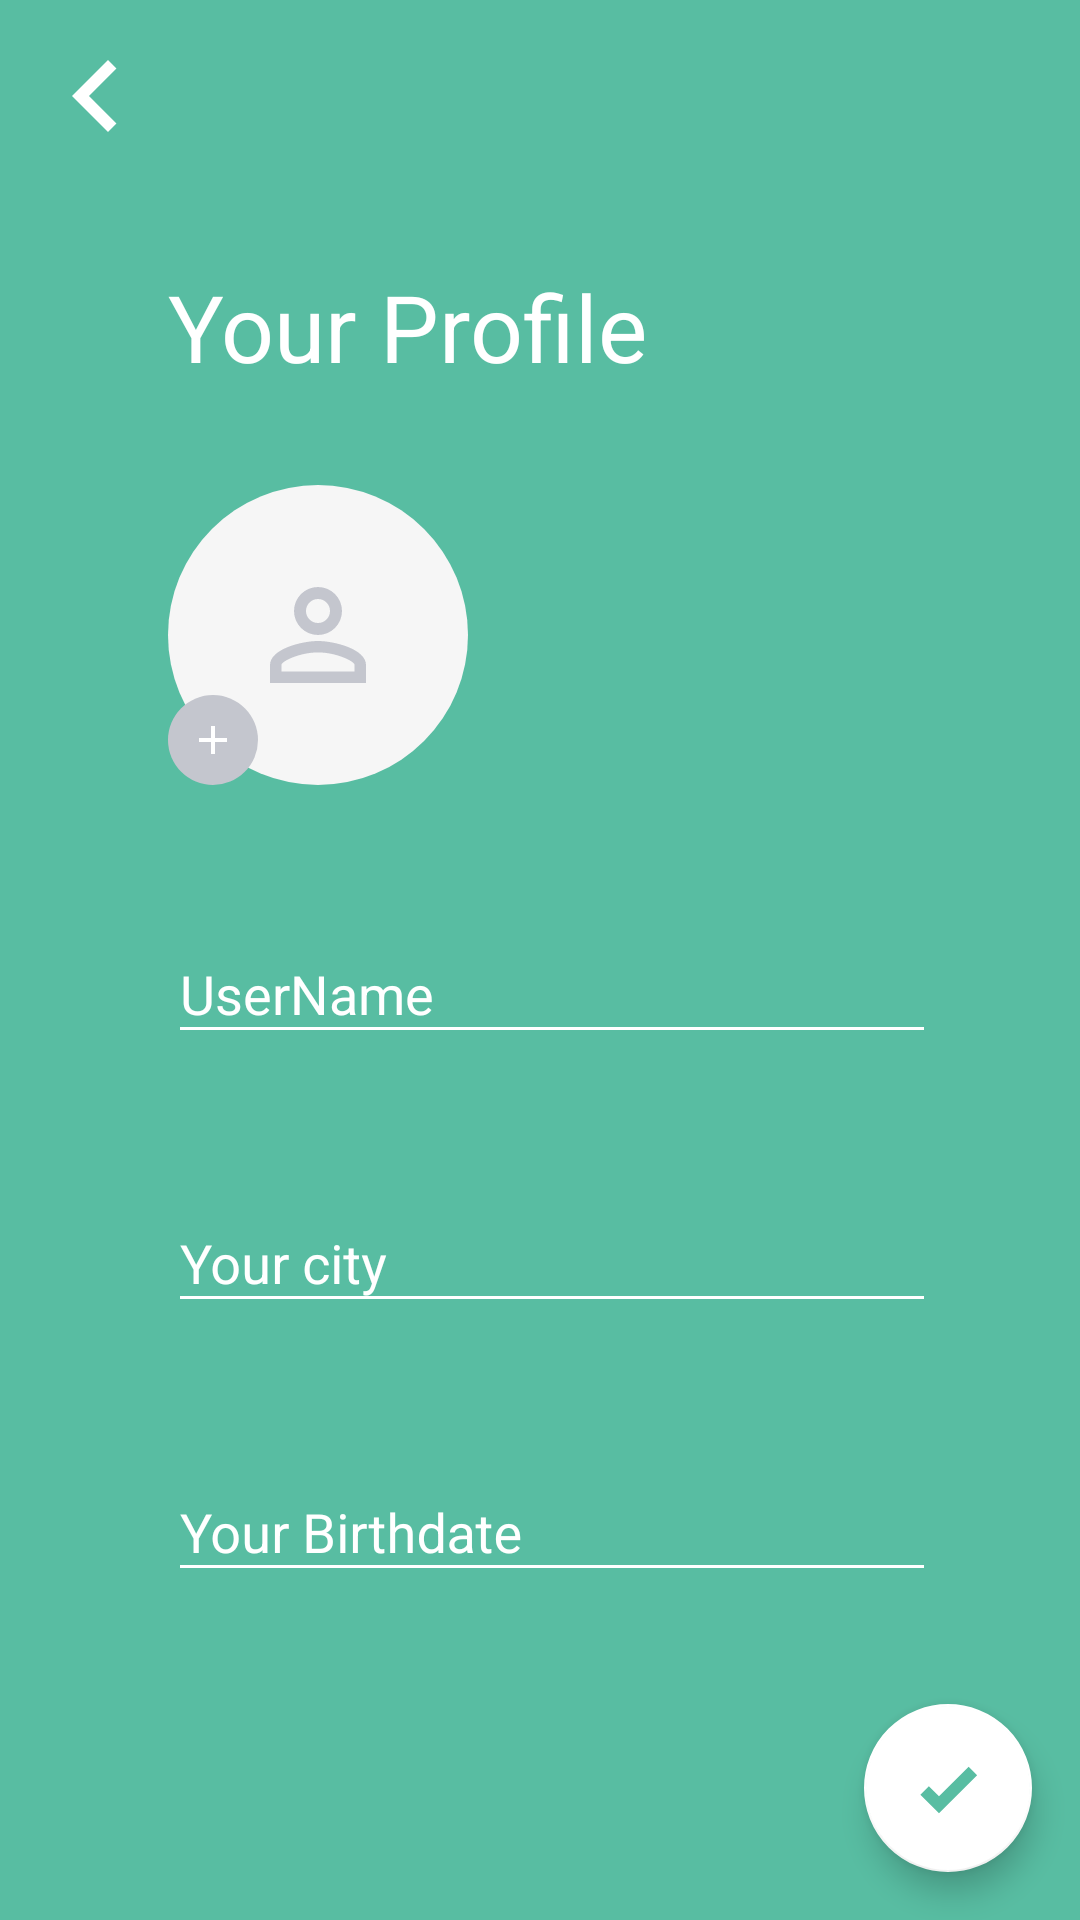

Where to tap for icons on this 1080×1920 app screen, as (x=x, y=y):
account: (x=318, y=635)
arrow left: (x=94, y=96)
check: (x=948, y=1788)
